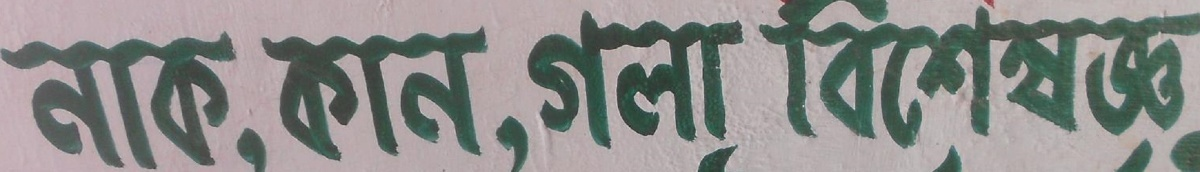text: (769, 4, 784, 156), (785, 4, 800, 156), (801, 4, 816, 156), (817, 4, 832, 156), (833, 4, 848, 156), (849, 4, 864, 156), (865, 4, 880, 156), (881, 4, 896, 156), (897, 4, 912, 156), (913, 4, 928, 156), (929, 4, 944, 156), (945, 4, 960, 156), (961, 4, 976, 156), (977, 4, 992, 156), (993, 4, 1008, 156), (1009, 4, 1024, 156), (1025, 4, 1040, 156), (1041, 4, 1056, 156), (1057, 4, 1072, 156), (1073, 4, 1088, 156), (1089, 4, 1104, 156), (1105, 4, 1120, 156), (1121, 4, 1136, 156), (1137, 4, 1152, 156), (1153, 4, 1168, 156), (1169, 4, 1184, 156), (529, 7, 544, 153), (545, 7, 560, 153), (561, 7, 576, 153), (577, 7, 592, 153), (593, 7, 608, 153), (609, 7, 624, 153), (625, 7, 640, 153), (641, 7, 656, 153), (657, 7, 672, 153), (673, 7, 688, 153), (689, 7, 704, 153), (705, 7, 720, 153), (721, 7, 736, 153), (737, 7, 752, 153), (17, 29, 32, 172), (33, 29, 48, 172), (49, 29, 64, 172), (65, 29, 80, 172), (81, 29, 96, 172), (97, 29, 112, 172), (113, 29, 128, 172), (129, 29, 144, 172), (145, 29, 160, 172), (161, 29, 176, 172), (177, 29, 192, 172), (193, 29, 208, 172), (209, 29, 224, 172), (225, 29, 240, 172), (241, 29, 256, 172), (257, 29, 272, 172), (273, 27, 288, 170), (289, 27, 304, 170), (305, 27, 320, 170), (321, 27, 336, 170), (337, 27, 352, 170), (353, 27, 368, 170), (369, 27, 384, 170), (385, 27, 400, 170), (401, 27, 416, 170), (417, 27, 432, 170), (433, 27, 448, 170), (449, 27, 464, 170), (465, 27, 480, 170), (481, 27, 496, 170), (497, 27, 512, 170), (513, 27, 528, 170), (3, 29, 16, 172), (529, 27, 541, 170), (757, 4, 768, 156), (1185, 4, 1195, 156), (262, 27, 272, 170), (523, 7, 528, 153), (1121, 131, 1136, 171), (1137, 131, 1152, 171), (1153, 131, 1168, 171), (1169, 131, 1184, 171), (1185, 131, 1200, 171), (929, 143, 944, 172), (945, 143, 960, 172), (705, 145, 720, 172), (721, 145, 736, 172), (753, 7, 755, 153), (273, 29, 275, 172), (694, 145, 704, 172), (1115, 131, 1120, 171), (961, 143, 965, 172), (737, 145, 741, 172)
